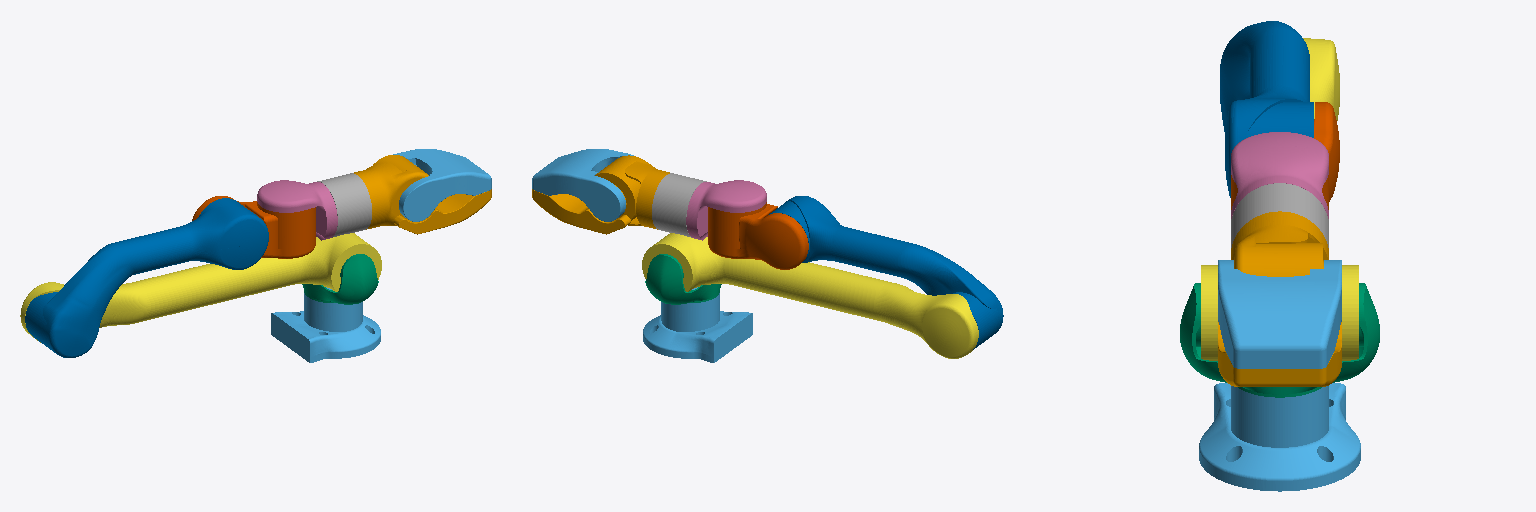
The robot description file, URDF, robot "z1_description":
<?xml version="1.0" ?>
<!-- =================================================================================== -->
<!-- |    This document was autogenerated by xacro from robot.xacro                    | -->
<!-- |    EDITING THIS FILE BY HAND IS NOT RECOMMENDED                                 | -->
<!-- =================================================================================== -->
<robot name="z1_description">
  <gazebo>
    <plugin filename="libgazebo_ros_control.so" name="gazebo_ros_control">
      <robotNamespace>/z1_gazebo</robotNamespace>
      <robotSimType>gazebo_ros_control/DefaultRobotHWSim</robotSimType>
    </plugin>
  </gazebo>
  <gazebo reference="link04">
    <self_collide>true</self_collide>
  </gazebo>
  <gazebo reference="link05">
    <self_collide>true</self_collide>
  </gazebo>
  <gazebo reference="link06">
    <self_collide>true</self_collide>
  </gazebo>
  <link name="world"/>
  <joint name="base_static_joint" type="fixed">
    <origin rpy="0 0 0" xyz="0 0 0"/>
    <parent link="world"/>
    <child link="link00"/>
  </joint>
  <link name="link00">
    <visual>
      <origin rpy="0 0 0" xyz="0 0 0"/>
      <geometry>
        <mesh filename="../meshes/visual/z1_Link00.stl" scale="1 1 1"/>
      </geometry>
    </visual>
    <collision>
      <geometry>
        <cylinder length="0.051" radius="0.0325"/>
      </geometry>
      <origin rpy="0 0 0" xyz="0 0 0.0255"/>
    </collision>
    <!-- <collision>
      <origin rpy="0 0 0" xyz="0 0 0.0255"/>
      <geometry>
          <mesh filename="../meshes/visual/z1_Link00.stl" scale="1 1 1"/>
      </geometry>
    </collision> -->
    <inertial>
      <origin rpy="0 0 0" xyz="-0.00334984 -0.00013615 0.02495843"/>
      <mass value="0.47247481"/>
      <inertia ixx="0.00037937" ixy="-3.5e-07" ixz="-1.037e-05" iyy="0.00041521" iyz="-9.9e-07" izz="0.00053066"/>
    </inertial>
  </link>
  <joint name="joint1" type="revolute">
    <origin rpy="0 0 0" xyz="0 0 0.0585"/>
    <parent link="link00"/>
    <child link="link01"/>
    <axis xyz="0 0 1"/>
    <dynamics damping="1.0" friction="1.0"/>
    <limit effort="30.0" lower="-2.6179938779914944" upper="2.6179938779914944" velocity="3.1415"/>
  </joint>
  <link name="link01">
    <visual>
      <origin rpy="0 0 0" xyz="0 0 0"/>
      <geometry>
        <mesh filename="../meshes/visual/z1_Link01.stl" scale="1 1 1"/>
      </geometry>
    </visual>
    <inertial>
      <origin rpy="0 0 0" xyz="2.47e-06 -0.00025198 0.02317169"/>
      <mass value="0.67332551"/>
      <inertia ixx="0.00128328" ixy="-6e-08" ixz="-4e-07" iyy="0.00071931" iyz="5e-07" izz="0.00083936"/>
    </inertial>
  </link>
  <joint name="joint2" type="revolute">
    <origin rpy="0 0 0" xyz="0 0 0.045"/>
    <parent link="link01"/>
    <child link="link02"/>
    <axis xyz="0 1 0"/>
    <dynamics damping="2.0" friction="2.0"/>
    <limit effort="60.0" lower="0.0" upper="2.9670597283903604" velocity="3.1415"/>
  </joint>
  <link name="link02">
    <visual>
      <origin rpy="0 0 0" xyz="0 0 0"/>
      <geometry>
        <mesh filename="../meshes/visual/z1_Link02.stl" scale="1 1 1"/>
      </geometry>
    </visual>
    <collision>
      <geometry>
        <cylinder length="0.102" radius="0.0325"/>
      </geometry>
      <origin rpy="1.5707963267948966 0 0" xyz="0 0 0"/>
    </collision>
    <collision>
      <geometry>
        <cylinder length="0.235" radius="0.0225"/>
      </geometry>
      <origin rpy="0 1.5707963267948966 0" xyz="-0.16249999999999998 0 0"/>
    </collision>
    <collision>
      <geometry>
        <cylinder length="0.051" radius="0.0325"/>
      </geometry>
      <origin rpy="1.5707963267948966 0 0" xyz="-0.35 0 0"/>
    </collision>
    <!-- <collision>
      <origin rpy="1.5707963267948966 0 0" xyz="-0.35 0 0"/>
      <geometry>
          <mesh filename="../meshes/visual/z1_Link02.stl" scale="1 1 1"/>
      </geometry>
    </collision> -->
    <inertial>
      <origin rpy="0 0 0" xyz="-0.11012601 0.00240029 0.00158266"/>
      <mass value="1.19132258"/>
      <inertia ixx="0.00102138" ixy="0.00062358" ixz="5.13e-06" iyy="0.02429457" iyz="-2.1e-06" izz="0.02466114"/>
    </inertial>
  </link>
  <joint name="joint3" type="revolute">
    <origin rpy="0 0 0" xyz="-0.35 0 0"/>
    <parent link="link02"/>
    <child link="link03"/>
    <axis xyz="0 1 0"/>
    <dynamics damping="1.0" friction="1.0"/>
    <limit effort="30.0" lower="-2.8797932657906435" upper="0.0" velocity="3.1415"/>
  </joint>
  <link name="link03">
    <visual>
      <origin rpy="0 0 0" xyz="0 0 0"/>
      <geometry>
        <mesh filename="../meshes/visual/z1_Link03.stl" scale="1 1 1"/>
      </geometry>
    </visual>
    <collision>
      <geometry>
        <cylinder length="0.116" radius="0.02"/>
      </geometry>
      <origin rpy="0 1.5707963267948966 0" xyz="0.128 0 0.055"/>
    </collision>
    <collision>
      <geometry>
        <cylinder length="0.059" radius="0.0325"/>
      </geometry>
      <origin rpy="0 1.5707963267948966 1.5707963267948966" xyz="0.2205 0 0.055"/>
    </collision>
    <!-- <collision>
      <origin rpy="0 1.5707963267948966 1.5707963267948966" xyz="0.2205 0 0.055"/>
      <geometry>
          <mesh filename="../meshes/visual/z1_Link03.stl" scale="1 1 1"/>
      </geometry>
    </collision> -->
    <inertial>
      <origin rpy="0 0 0" xyz="0.10609208 -0.00541815 0.03476383"/>
      <mass value="0.83940874"/>
      <inertia ixx="0.00108061" ixy="-8.669e-05" ixz="-0.00208102" iyy="0.00954238" iyz="-1.332e-05" izz="0.00886621"/>
    </inertial>
  </link>
  <joint name="joint4" type="revolute">
    <origin rpy="0 0 0" xyz="0.218 0 0.057"/>
    <parent link="link03"/>
    <child link="link04"/>
    <axis xyz="0 1 0"/>
    <dynamics damping="1.0" friction="1.0"/>
    <limit effort="30.0" lower="-1.5184364492350666" upper="1.5184364492350666" velocity="3.1415"/>
  </joint>
  <link name="link04">
    <visual>
      <origin rpy="0 0 0" xyz="0 0 0"/>
      <geometry>
        <mesh filename="../meshes/visual/z1_Link04.stl" scale="1 1 1"/>
      </geometry>
    </visual>
    <collision>
      <geometry>
        <cylinder length="0.067" radius="0.0325"/>
      </geometry>
      <origin rpy="0 0 0" xyz="0.072 0 0"/>
    </collision>
    <!-- <collision>
      <origin rpy="0 0 0" xyz="0.072 0 0"/>
      <geometry>
          <mesh filename="../meshes/visual/z1_Link04.stl" scale="1 1 1"/>
      </geometry>
    </collision> -->
    <inertial>
      <origin rpy="0 0 0" xyz="0.04366681 0.00364738 -0.00170192"/>
      <mass value="0.56404563"/>
      <inertia ixx="0.00031576" ixy="8.13e-05" ixz="4.091e-05" iyy="0.00092996" iyz="-5.96e-06" izz="0.00097912"/>
    </inertial>
  </link>
  <joint name="joint5" type="revolute">
    <origin rpy="0 0 0" xyz="0.07 0.0 0.0"/>
    <parent link="link04"/>
    <child link="link05"/>
    <axis xyz="0 0 1"/>
    <dynamics damping="1.0" friction="1.0"/>
    <limit effort="30.0" lower="-1.3439035240356338" upper="1.3439035240356338" velocity="3.1415"/>
  </joint>
  <link name="link05">
    <visual>
      <origin rpy="0 0 0" xyz="0 0 0"/>
      <geometry>
        <mesh filename="../meshes/visual/z1_Link05.stl" scale="1 1 1"/>
      </geometry>
    </visual>
    <inertial>
      <origin rpy="0 0 0" xyz="0.03121533 0.0 0.00646316"/>
      <mass value="0.38938492"/>
      <inertia ixx="0.00017605" ixy="4e-07" ixz="5.689e-05" iyy="0.00055896" iyz="-1.3e-07" izz="0.0005386"/>
    </inertial>
  </link>
  <joint name="joint6" type="revolute">
    <origin rpy="0 0 0" xyz="0.0492 0.0 0.0"/>
    <parent link="link05"/>
    <child link="link06"/>
    <axis xyz="1 0 0"/>
    <dynamics damping="1.0" friction="1.0"/>
    <limit effort="30.0" lower="-2.792526803190927" upper="2.792526803190927" velocity="3.1415"/>
  </joint>
  <link name="link06">
    <visual>
      <origin rpy="0 0 0" xyz="0 0 0"/>
      <geometry>
        <mesh filename="../meshes/visual/z1_Link06.stl" scale="1 1 1"/>
      </geometry>
    </visual>
    <collision>
      <geometry>
        <cylinder length="0.051" radius="0.0325"/>
      </geometry>
      <origin rpy="0 1.5707963267948966 0" xyz="0.0255 0 0"/>
    </collision>
    <!-- <collision>
      <origin rpy="0 1.5707963267948966 0" xyz="0.0255 0 0"/>
      <geometry>
          <mesh filename="../meshes/visual/z1_Link06.stl" scale="1 1 1"/>
      </geometry>
    </collision> -->
    <inertial>
      <origin rpy="0 0 0" xyz="0.0241569 -0.00017355 -0.00143876"/>
      <mass value="0.28875807"/>
      <inertia ixx="0.00018328" ixy="1.22e-06" ixz="5.4e-07" iyy="0.0001475" iyz="8e-08" izz="0.0001468"/>
    </inertial>
  </link>


  <joint name="gripperStator" type="fixed">
      <origin rpy="0 0 0" xyz="0.051 0.0 0.0"/>
      <parent link="link06"/>
      <child link="gripperStator"/>
  </joint>

  <link name="gripperStator">
      <visual>
          <origin rpy="0 0 0" xyz="0 0 0"/>
          <geometry>
              <mesh filename="../meshes/visual/z1_GripperStator.stl" scale="1 1 1"/>
          </geometry>
      </visual>
      <collision>
          <geometry>
              <cylinder length="0.051" radius="0.0325"/>
          </geometry>
          <origin rpy="0 0 0" xyz="0 0 0"/>
      </collision>
      <collision>
          <origin rpy="0 0 0" xyz="0 0 0"/>
          <geometry>
              <mesh filename="../meshes/visual/z1_GripperStator.stl" scale="1 1 1"/>
          </geometry>
      </collision>

      <inertial>
          <origin rpy="0 0 0" xyz="0.04764427 -0.00035819 -0.00249162"/>
          <mass value="0.52603655"/>
          <inertia
              ixx="0.00038683" ixy="0.00000359" ixz="-0.00007662"
              iyy="0.00068614" iyz="-0.00000209"
              izz="0.00066293"/>
      </inertial>
  </link>

  <joint name="jointGripper" type="revolute">
      <origin rpy="0 0 0" xyz="0.049 0.0 0"/>
      <parent link="gripperStator"/>
      <child link="gripperMover"/>
      <axis xyz="0 1 0"/>
      <dynamics damping="0.0" friction="0.0"/>
      <limit effort="30.0" velocity="10" lower="-1.57" upper="0.0"/>
  </joint>

  <link name="gripperMover">
      <visual>
          <origin rpy="0 0 0" xyz="0 0 0"/>
          <geometry>
              <mesh filename="../meshes/visual/z1_GripperMover.stl" scale="1 1 1"/>
          </geometry>
      </visual>
      <collision>
          <origin rpy="0 0 0" xyz="0 0 0"/>
          <geometry>
              <mesh filename="../meshes/visual/z1_GripperMover.stl" scale="1 1 1"/>
          </geometry>
      </collision>
      <inertial>
          <origin rpy="0 0 0" xyz="0.01320633 0.00476708 0.00380534"/>
          <mass value="0.27621302"/>
          <inertia
              ixx="0.00017716" ixy="-0.00001683" ixz="0.00001786"
              iyy="0.00026787" iyz="-0.00000262"
              izz="0.00035728"/>
      </inertial>
  </link>

  <transmission name="JointTrans1">
    <type>transmission_interface/SimpleTransmission</type>
    <joint name="joint1">
      <hardwareInterface>hardware_interface/EffortJointInterface</hardwareInterface>
    </joint>
    <actuator name="Actuator1">
      <hardwareInterface>hardware_interface/EffortJointInterface</hardwareInterface>
      <mechanicalReduction>1</mechanicalReduction>
    </actuator>
  </transmission>
  <transmission name="JointTrans2">
    <type>transmission_interface/SimpleTransmission</type>
    <joint name="joint2">
      <hardwareInterface>hardware_interface/EffortJointInterface</hardwareInterface>
    </joint>
    <actuator name="Actuator2">
      <hardwareInterface>hardware_interface/EffortJointInterface</hardwareInterface>
      <mechanicalReduction>1</mechanicalReduction>
    </actuator>
  </transmission>
  <transmission name="JointTrans3">
    <type>transmission_interface/SimpleTransmission</type>
    <joint name="joint3">
      <hardwareInterface>hardware_interface/EffortJointInterface</hardwareInterface>
    </joint>
    <actuator name="Actuator3">
      <hardwareInterface>hardware_interface/EffortJointInterface</hardwareInterface>
      <mechanicalReduction>1</mechanicalReduction>
    </actuator>
  </transmission>
  <transmission name="JointTrans4">
    <type>transmission_interface/SimpleTransmission</type>
    <joint name="joint4">
      <hardwareInterface>hardware_interface/EffortJointInterface</hardwareInterface>
    </joint>
    <actuator name="Actuator4">
      <hardwareInterface>hardware_interface/EffortJointInterface</hardwareInterface>
      <mechanicalReduction>1</mechanicalReduction>
    </actuator>
  </transmission>
  <transmission name="JointTrans5">
    <type>transmission_interface/SimpleTransmission</type>
    <joint name="joint5">
      <hardwareInterface>hardware_interface/EffortJointInterface</hardwareInterface>
    </joint>
    <actuator name="Actuator5">
      <hardwareInterface>hardware_interface/EffortJointInterface</hardwareInterface>
      <mechanicalReduction>1</mechanicalReduction>
    </actuator>
  </transmission>
  <transmission name="JointTrans6">
    <type>transmission_interface/SimpleTransmission</type>
    <joint name="joint6">
      <hardwareInterface>hardware_interface/EffortJointInterface</hardwareInterface>
    </joint>
    <actuator name="Actuator6">
      <hardwareInterface>hardware_interface/EffortJointInterface</hardwareInterface>
      <mechanicalReduction>1</mechanicalReduction>
    </actuator>
  </transmission>
</robot>

--- Facts derived from the render (not from the file) ---
Views: 3 orthographic renders of the robot side by side, from view 1: azimuth 30°, elevation 25°; view 2: azimuth 150°, elevation 25°; view 3: azimuth 270°, elevation 25°.
Model z1_description with 10 links and 9 joints (7 revolute, 2 fixed), rooted at world, posed every joint at zero.
Links seen in each view (by area): view 1: link03, link02, link00, gripperStator, gripperMover, link04, link05, link01, link06; view 2: link02, link03, link00, link04, gripperStator, gripperMover, link05, link01, link06; view 3: link00, gripperMover, link03, gripperStator, link02, link05, link01, link06, link04.
Link boxes in pixels (x1,y1,x2,y2): link03: (25, 198, 268, 357); link02: (20, 233, 381, 342); link00: (271, 287, 380, 362); gripperStator: (354, 155, 491, 234); gripperMover: (393, 149, 491, 221); link04: (192, 196, 315, 258); link05: (257, 180, 337, 240); link01: (302, 254, 378, 304); link06: (317, 173, 371, 237); link02: (642, 233, 978, 358); link03: (769, 196, 1003, 349); link00: (643, 287, 752, 362); link04: (708, 202, 808, 269); gripperStator: (532, 155, 669, 234); gripperMover: (532, 149, 633, 221); link05: (686, 180, 766, 240); link01: (645, 254, 721, 304); link06: (652, 173, 706, 237); link00: (1199, 383, 1360, 491); gripperMover: (1218, 260, 1341, 368); link03: (1220, 21, 1313, 197); gripperStator: (1218, 211, 1341, 386); link02: (1201, 38, 1358, 360); link05: (1231, 132, 1328, 218); link01: (1180, 283, 1379, 397); link06: (1231, 183, 1328, 247); link04: (1231, 102, 1339, 209).
Bounding box of the posed robot: 0.5697 × 0.1319 × 0.198 m (x, y, z).
9 mesh visuals loaded from 9 distinct referenced files (9 binary STL).